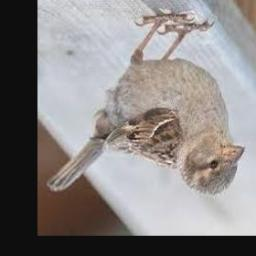Sparrow: (47, 15, 245, 196)
